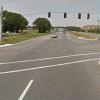Traffic light: (38, 6, 94, 30)
